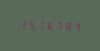eight: (62, 20, 70, 31)
five: (26, 19, 34, 30)
four: (71, 20, 79, 32)
one: (17, 18, 25, 30), (35, 19, 43, 30)
seven: (53, 20, 61, 31)
six: (44, 19, 52, 31)
